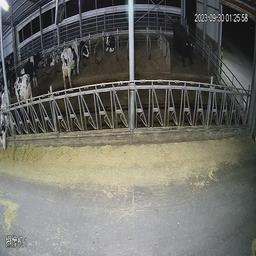cow: (56, 35, 91, 88), (173, 21, 197, 77), (13, 72, 37, 124), (98, 28, 122, 71), (1, 79, 13, 154), (22, 50, 45, 84), (48, 46, 58, 69)
